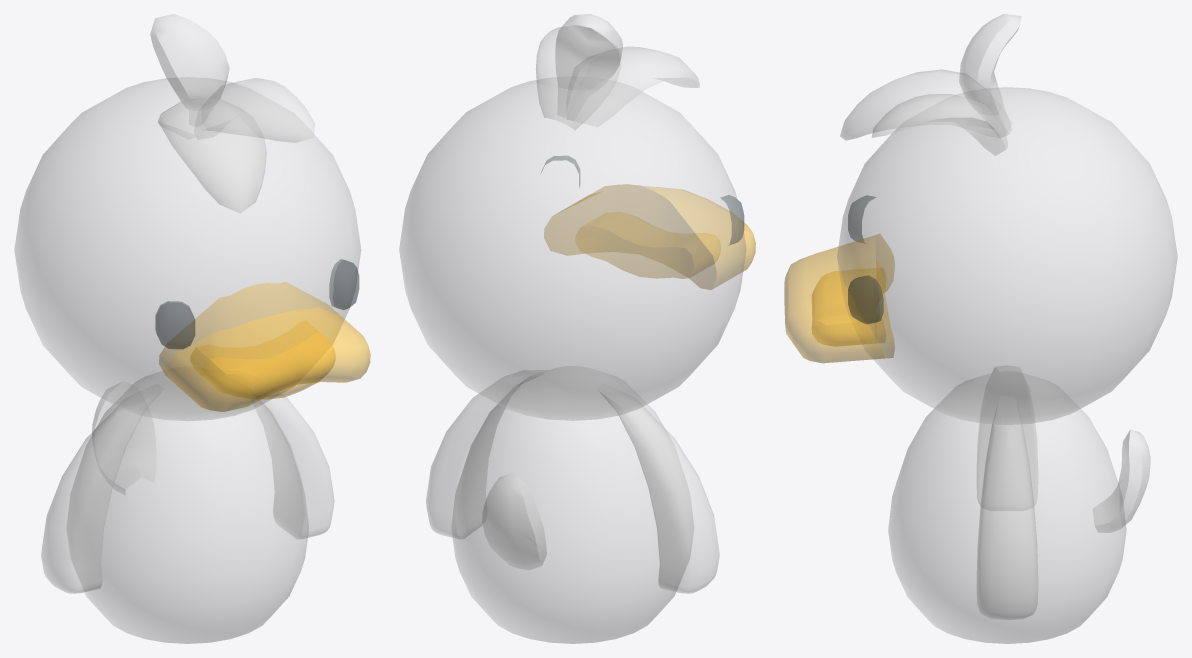
The model's file is opaDuck.gltf.
The picture shows the model from 3 angles, left to right: view 1: azimuth 30°, elevation 25°; view 2: azimuth 150°, elevation 25°; view 3: azimuth 270°, elevation 25°; orthographic projection.
Visible parts, largest first — view 1: Cube1338, character_duck, Cube1338_1, character_duckArmRight, character_duckArmLeft, Cube1338_2; view 2: Cube1338, character_duck, Cube1338_1, character_duckArmRight, character_duckArmLeft, Cube1338_2; view 3: Cube1338, character_duck, Cube1338_1, character_duckArmLeft, Cube1338_2, character_duckArmRight.
Boxes of the visible parts, left/top/right/bottom form: Cube1338: left=14, top=14, right=360, bottom=420; character_duck: left=66, top=371, right=308, bottom=643; Cube1338_1: left=159, top=282, right=370, bottom=411; character_duckArmRight: left=41, top=384, right=163, bottom=593; character_duckArmLeft: left=255, top=394, right=334, bottom=538; Cube1338_2: left=155, top=259, right=359, bottom=349; Cube1338: left=399, top=14, right=746, bottom=420; character_duck: left=451, top=366, right=693, bottom=643; Cube1338_1: left=544, top=184, right=755, bottom=289; character_duckArmRight: left=597, top=383, right=719, bottom=593; character_duckArmLeft: left=426, top=370, right=547, bottom=538; Cube1338_2: left=541, top=156, right=744, bottom=244; Cube1338: left=837, top=14, right=1177, bottom=424; character_duck: left=888, top=371, right=1150, bottom=643; Cube1338_1: left=784, top=234, right=894, bottom=363; character_duckArmLeft: left=977, top=397, right=1037, bottom=619; Cube1338_2: left=848, top=195, right=883, bottom=324; character_duckArmRight: left=977, top=365, right=1037, bottom=505.
Size of the model in its own units: 1 by 1.89 by 1.15.
